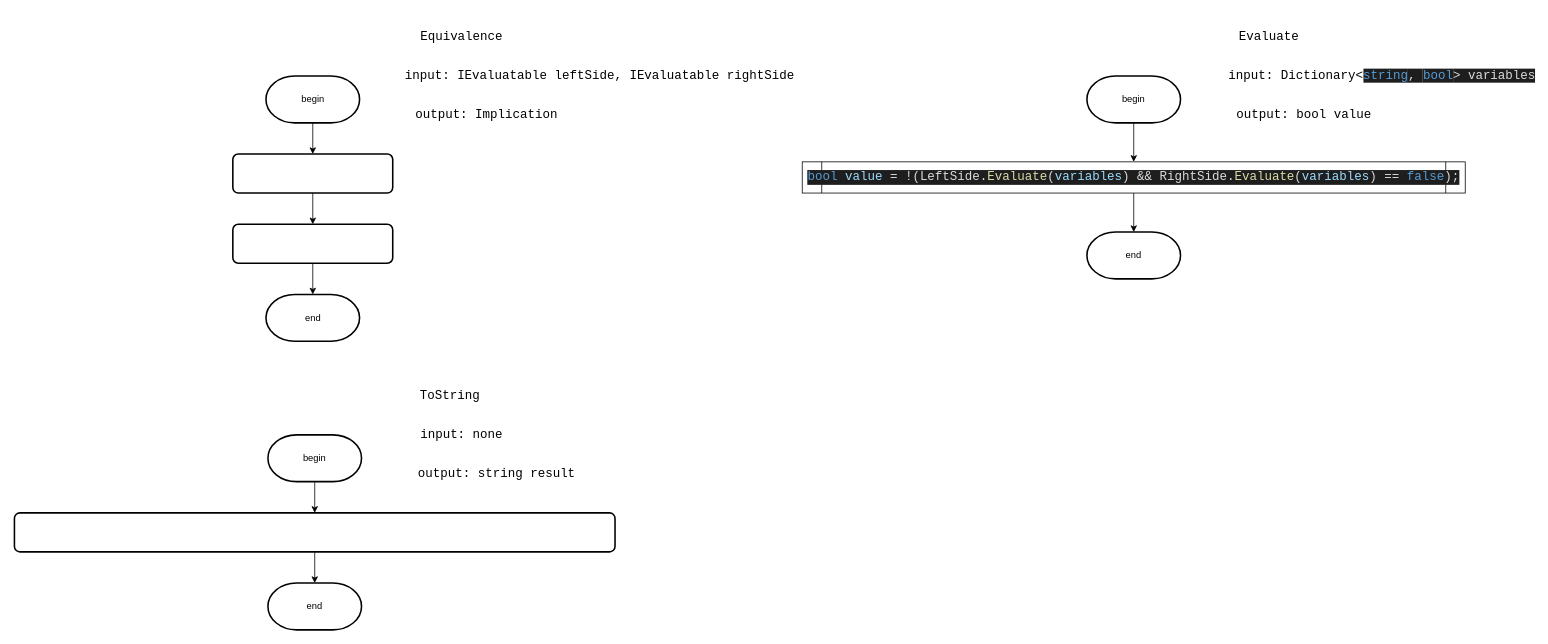
Some shapes in this 1548 by 644 pixel diagram are drawn without their labels. Here are the shapes that lost their labels. From the top down, the centre of each, then its label:
[312,173]: LeftSide = leftSide ;
[312,243]: RightSide = rightSide ;
[314,532]: string result = $"( {LeftSide} -> {RightSide} )" ;
